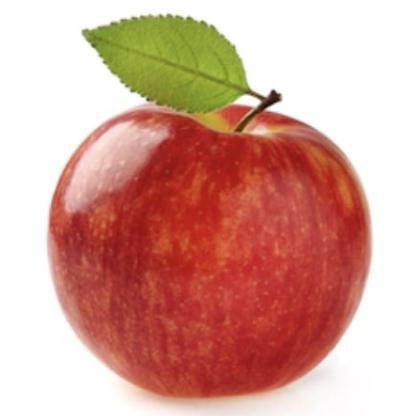apple: (38, 26, 384, 406)
